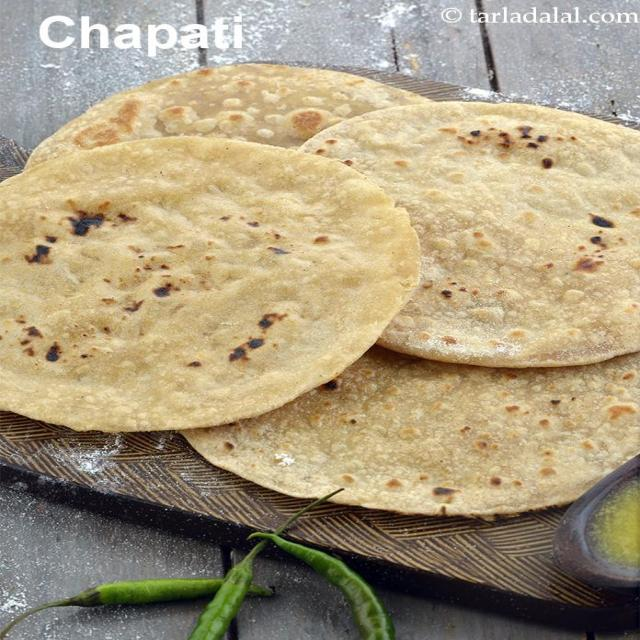roti: (0, 140, 409, 429), (294, 106, 640, 364), (183, 345, 640, 515), (20, 61, 440, 169)
